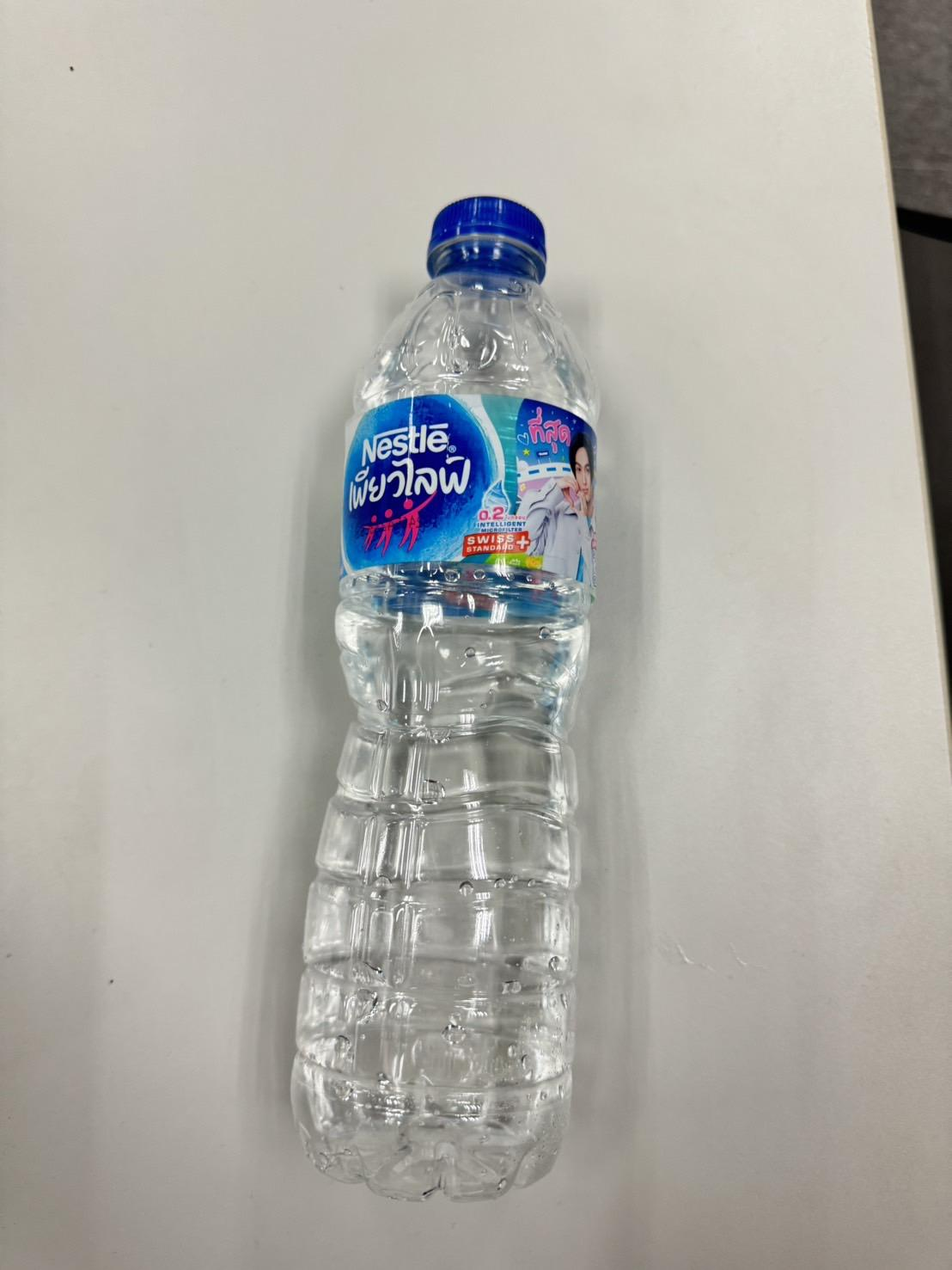Bottle: (291, 197, 599, 1200)
